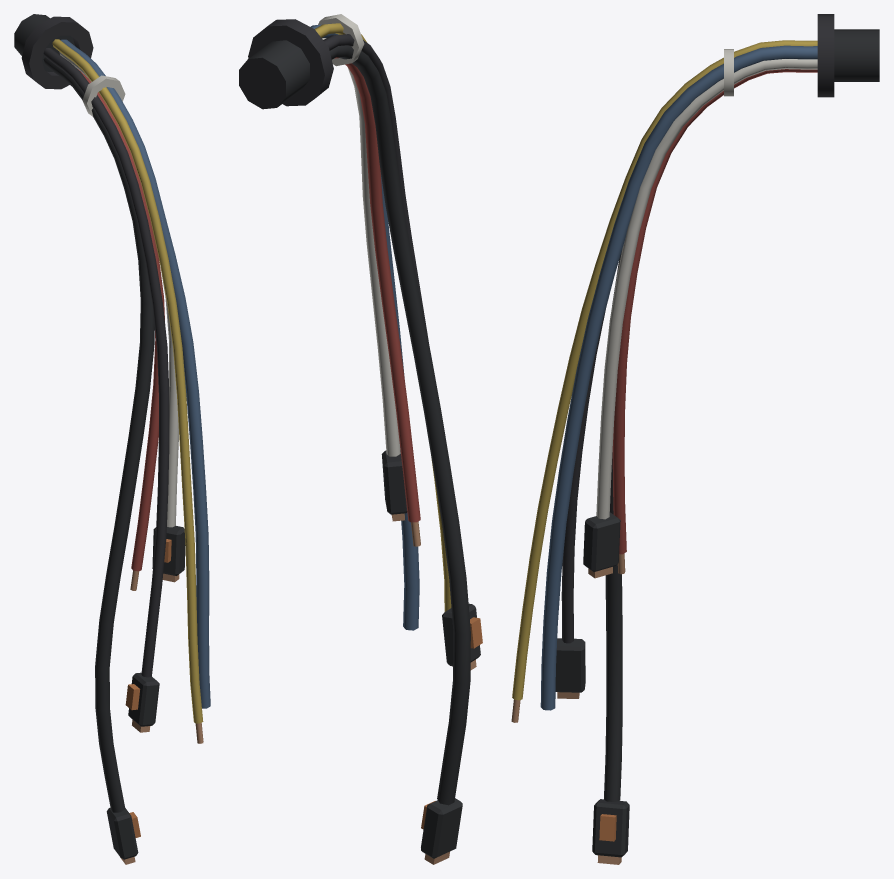
File: astro_exposed_wire_harness_b.fbx
3 views of the same model, side by side, from view 1: azimuth 30°, elevation 25°; view 2: azimuth 150°, elevation 25°; view 3: azimuth 270°, elevation 25° (orthographic). The views are drawn at different scales.
Visible parts, largest first — view 1: ExposedWireHarnessB_Body; view 2: ExposedWireHarnessB_Body; view 3: ExposedWireHarnessB_Body.
Boxes of the visible parts, <box> form: ExposedWireHarnessB_Body: <box>14,14,210,864</box>; ExposedWireHarnessB_Body: <box>239,14,482,864</box>; ExposedWireHarnessB_Body: <box>511,14,879,864</box>.
Size of the model in its own units: 13.64 by 113 by 43.98.
